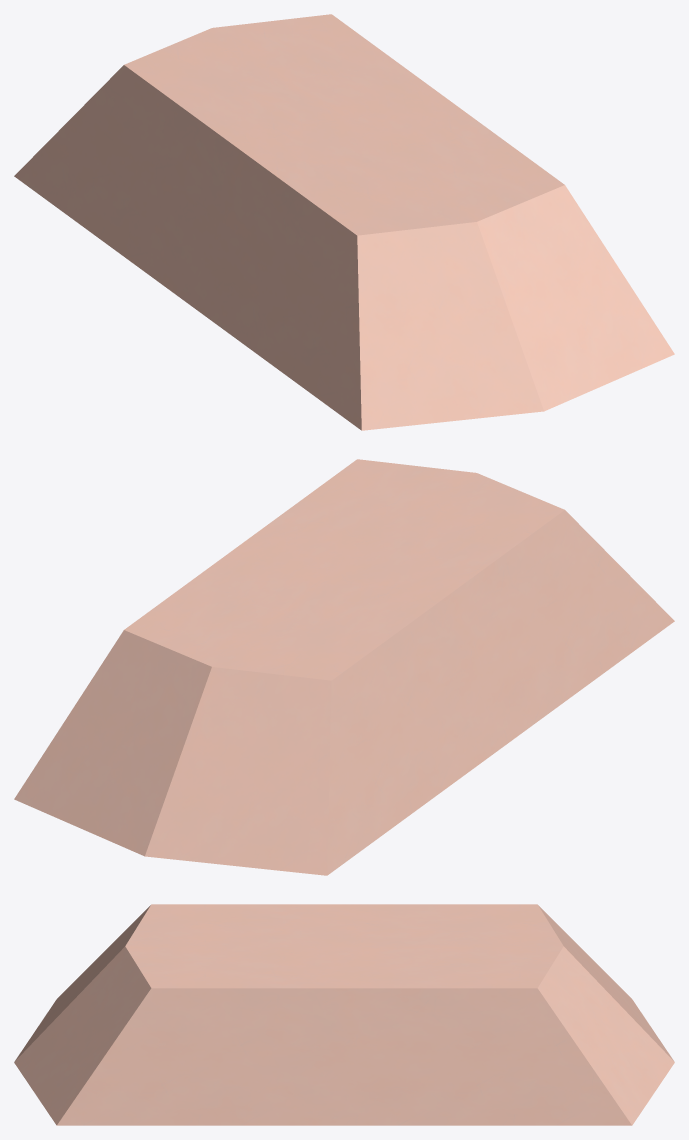
The model's file is Barra_Bronze.fbx.
The picture shows the model from 3 angles, top to bottom: view 1: azimuth 30°, elevation 25°; view 2: azimuth 150°, elevation 25°; view 3: azimuth 270°, elevation 25°; orthographic projection. The views are drawn at different scales.
Parts seen in each view (by area): view 1: Barra de Metal; view 2: Barra de Metal; view 3: Barra de Metal.
Part boxes in pixels (bbox=[...]): Barra de Metal: bbox=[14, 14, 674, 430]; Barra de Metal: bbox=[14, 459, 674, 875]; Barra de Metal: bbox=[14, 904, 674, 1125].
Size of the model in its own units: 21.32 by 9.13 by 47.09.
Materials: 1 (1 with a texture image).
